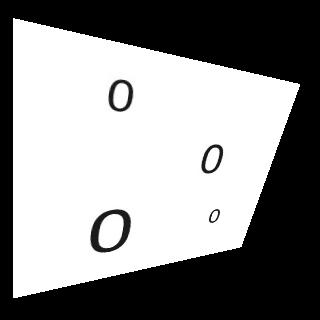zero: (84, 207, 132, 255), (101, 76, 140, 115), (194, 140, 229, 175), (204, 206, 225, 227)
